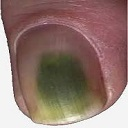Nail Fungal Infection: (36, 53, 105, 121)
